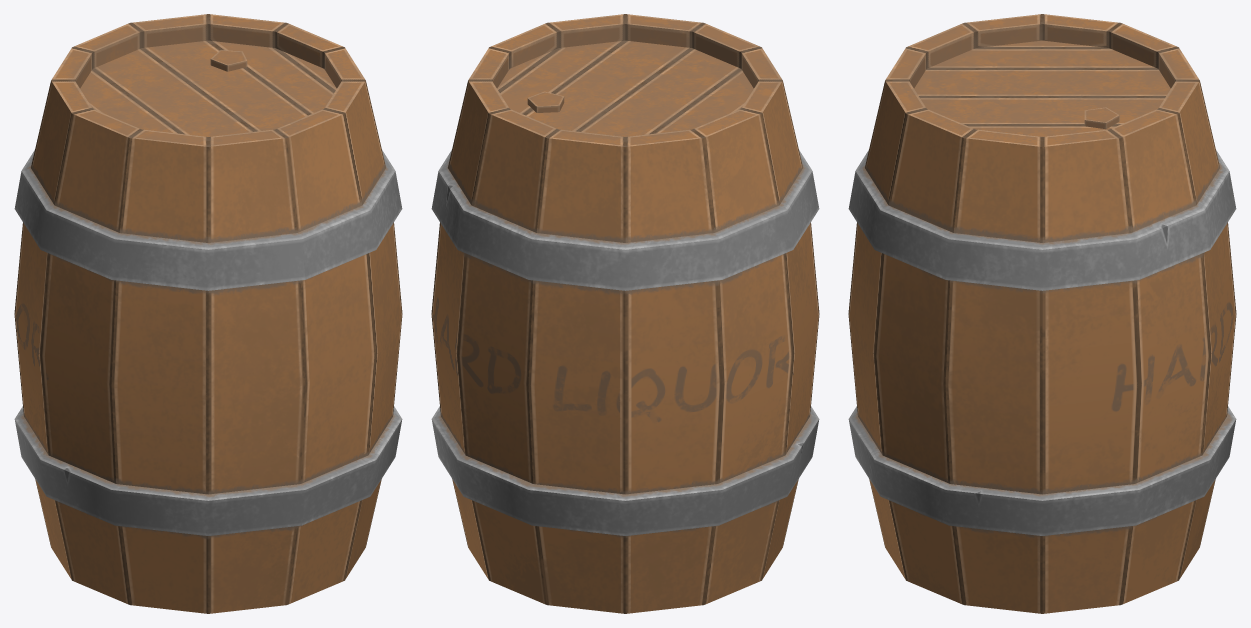
Rendered from Barrel.fbx.
3 views of the same model, side by side, from view 1: azimuth 30°, elevation 25°; view 2: azimuth 150°, elevation 25°; view 3: azimuth 270°, elevation 25° (orthographic).
Visible parts, largest first — view 1: Barrel_LOD0; view 2: Barrel_LOD0; view 3: Barrel_LOD0.
Boxes of the visible parts, box(x1,y1,x2,y2) form: Barrel_LOD0: box(14, 14, 402, 613); Barrel_LOD0: box(431, 14, 819, 613); Barrel_LOD0: box(848, 14, 1236, 613).
Size of what is drawn, in the model's own units: 67.79 by 90 by 67.79.
